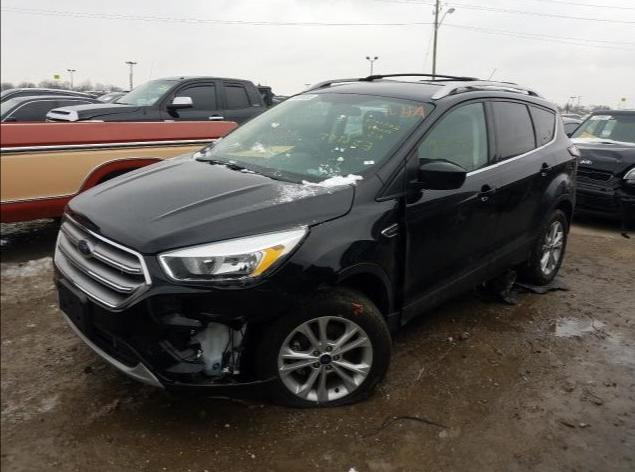Broken part: (88, 173, 406, 385)
Missing part: (161, 308, 242, 360)
